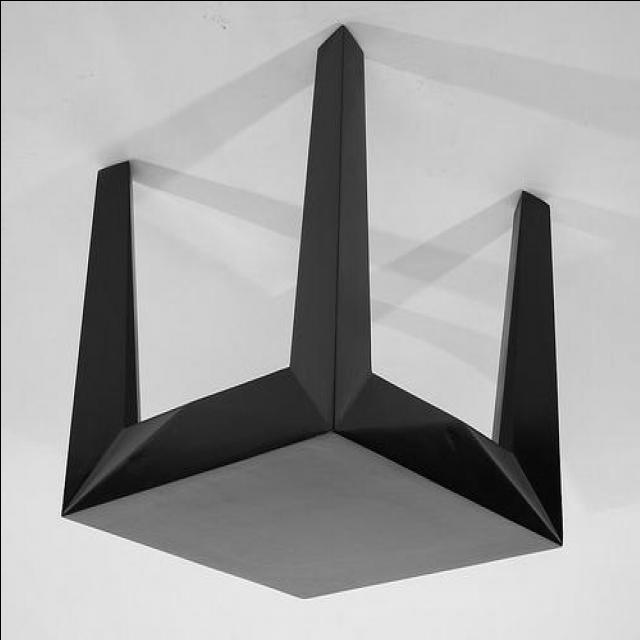table: (59, 27, 560, 600)
